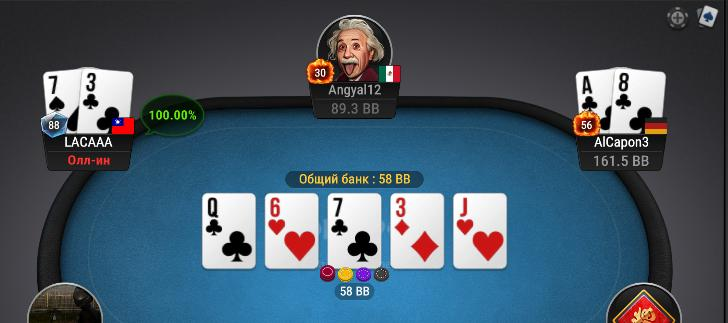3c: (82, 68, 134, 137)
3d: (389, 195, 444, 268)
6h: (266, 194, 319, 270)
7c: (329, 193, 382, 268)
7s: (42, 69, 78, 133)
8c: (614, 68, 665, 135)
Ac: (576, 69, 613, 135)
Jh: (455, 194, 507, 268)
Qc: (202, 192, 257, 270)
